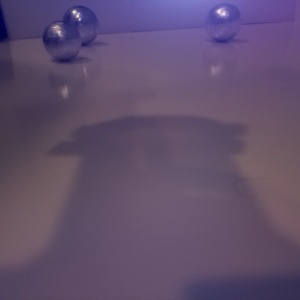alive_ball: (44, 20, 81, 61), (63, 6, 98, 45), (207, 4, 241, 41)
